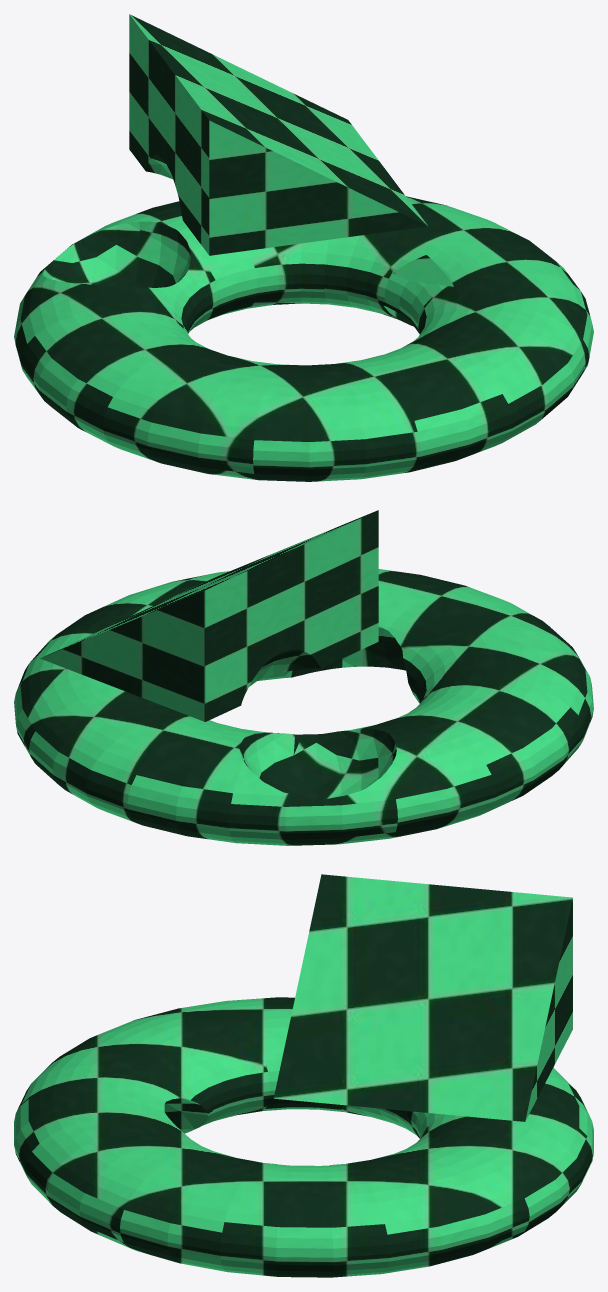
3 views of the same model, one above another, from view 1: azimuth 30°, elevation 25°; view 2: azimuth 150°, elevation 25°; view 3: azimuth 270°, elevation 25° (orthographic). The views are drawn at different scales.
Parts seen in each view (by area): view 1: geometry_0; view 2: geometry_0; view 3: geometry_0.
Boxes of the visible parts, left/top/right/bottom form: geometry_0: left=14, top=14, right=593, bottom=481; geometry_0: left=14, top=510, right=593, bottom=845; geometry_0: left=14, top=874, right=593, bottom=1277.
Bounding box in the file's own units: 1.73 × 0.8915 × 1.76.
1 material, 1 textured.
